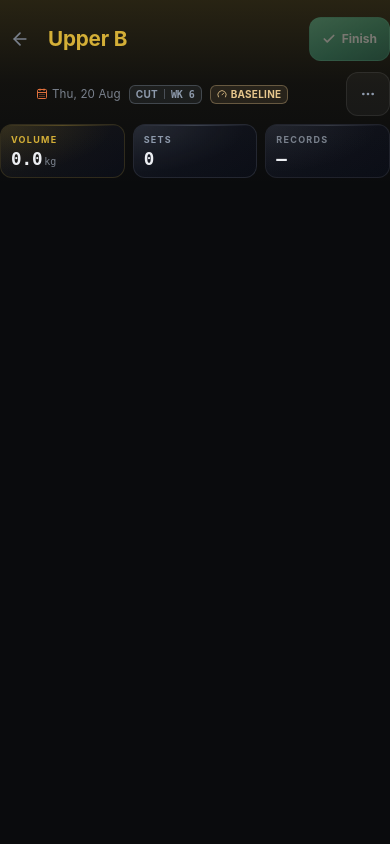
it: the live session hero › offers both tools as menu rows, inert before a set is ticked
Click the button named "Session options" at (368, 94), box [346,72,389,116]
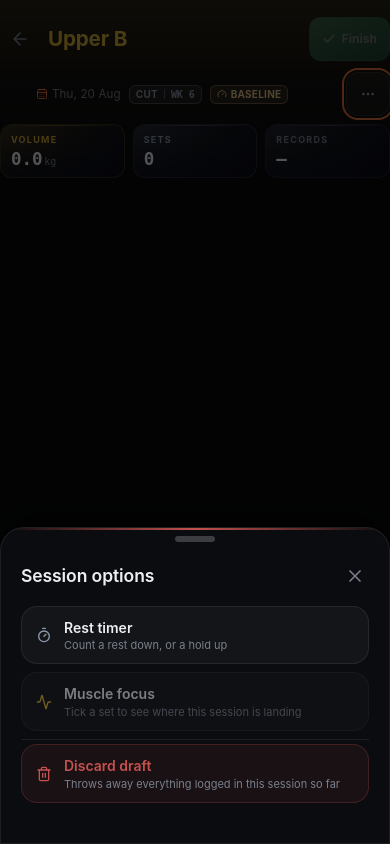
Now the button "Rest timer Count a rest down, or a hold up" is shown, box [21,606,369,664]
Now the button "Muscle focus Tick a set to see where this session is landing" is disabled, box [21,672,369,731]
